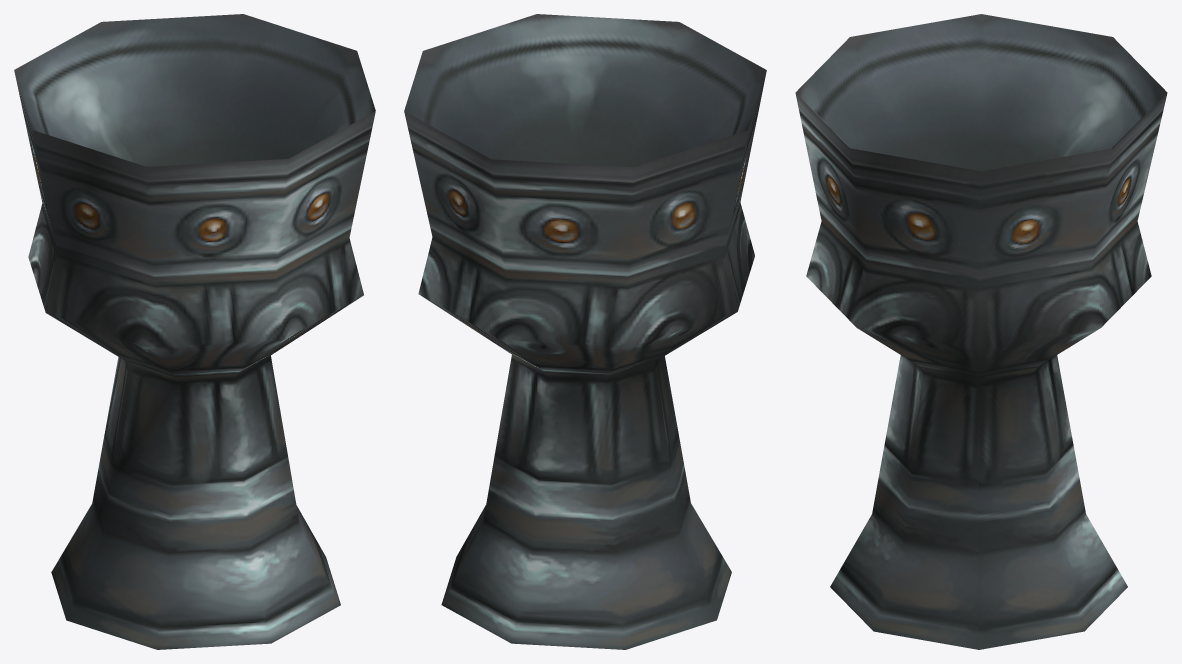
Rendered from trophy_silver.fbx.
The picture shows the model from 3 angles, left to right: view 1: azimuth 30°, elevation 25°; view 2: azimuth 150°, elevation 25°; view 3: azimuth 270°, elevation 25°; orthographic projection.
Visible parts, largest first — view 1: trophy_silver; view 2: trophy_silver; view 3: trophy_silver.
Boxes of the visible parts, x1,y1,x2,y2 form: trophy_silver: [14, 14, 375, 649]; trophy_silver: [404, 14, 766, 649]; trophy_silver: [795, 14, 1167, 649].
Bounding box in the file's own units: 33.42 × 48.98 × 33.42.
